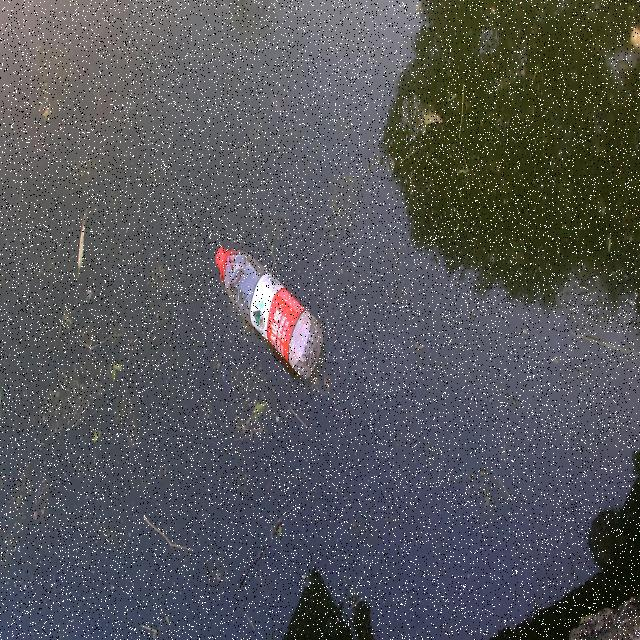Bottle: (209, 241, 324, 381)
